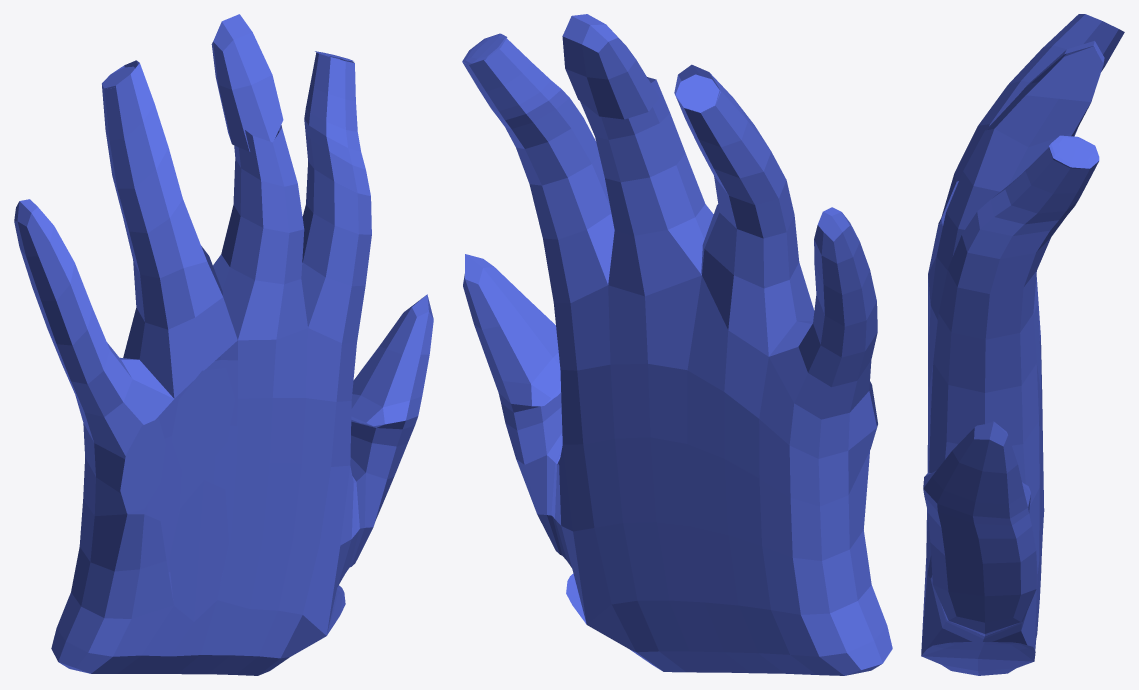
The model's file is hand.fbx.
3 views of the same model, side by side, from view 1: azimuth 30°, elevation 25°; view 2: azimuth 150°, elevation 25°; view 3: azimuth 270°, elevation 25° (orthographic). The views are drawn at different scales.
Parts seen in each view (by area): view 1: Cube; view 2: Cube; view 3: Cube.
Boxes of the visible parts, x1,y1,x2,y2 form: Cube: (14, 14, 433, 675); Cube: (462, 14, 892, 675); Cube: (921, 14, 1124, 675).
Size of the model in its own units: 296 by 457 by 130.
